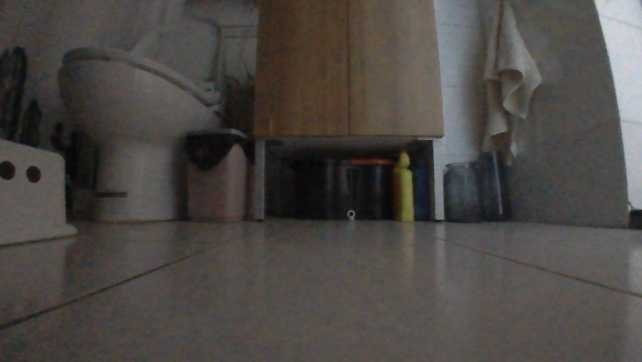toilet: (57, 15, 225, 223)
